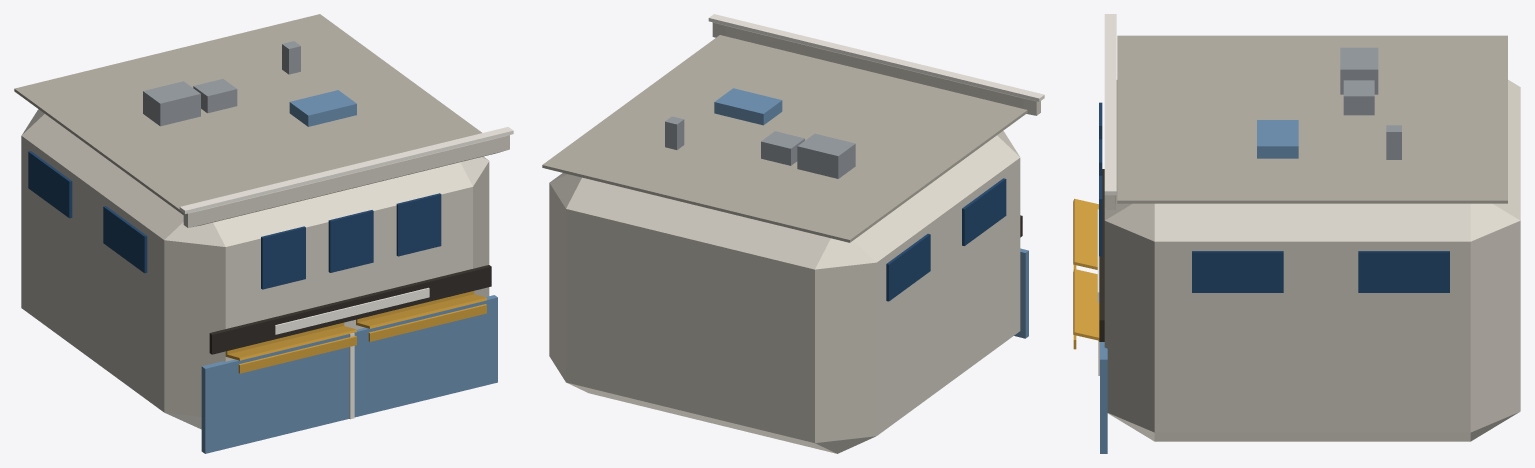
The model's file is shop_w12_f2_solid.glb.
The picture shows the model from 3 angles, left to right: view 1: azimuth 30°, elevation 25°; view 2: azimuth 150°, elevation 25°; view 3: azimuth 270°, elevation 25°; orthographic projection. The views are drawn at different scales.
Visible parts, largest first — view 1: walls, roofslab, shopglass, parapet, fascia, pcap, win.002, win.001, win, hvac, sb, sb.002 (+9 smaller); view 2: walls, roofslab, parapet, pcap, hvac, sb.002, sb, skylt, hvac2, shopglass, pipe; view 3: walls, roofslab, sb.001, sb.003, pcap, awn.001, awn, skylt, hvac, hvac2, shopglass, fascia (+1 smaller).
Boxes of the visible parts, left/top/right/bottom form: walls: left=21, top=109, right=489, bottom=429; roofslab: left=14, top=14, right=481, bottom=214; shopglass: left=201, top=295, right=497, bottom=453; parapet: left=183, top=135, right=509, bottom=227; fascia: left=209, top=265, right=491, bottom=354; pcap: left=179, top=127, right=513, bottom=213; win.002: left=396, top=193, right=441, bottom=256; win.001: left=328, top=210, right=373, bottom=272; win: left=261, top=226, right=305, bottom=289; hvac: left=143, top=81, right=200, bottom=126; sb: left=103, top=206, right=147, bottom=273; sb.002: left=28, top=151, right=72, bottom=218; walls: left=549, top=131, right=1020, bottom=453; roofslab: left=542, top=35, right=1027, bottom=242; parapet: left=712, top=22, right=1040, bottom=115; pcap: left=708, top=14, right=1044, bottom=101; hvac: left=797, top=133, right=855, bottom=178; sb.002: left=886, top=233, right=930, bottom=301; sb: left=962, top=178, right=1006, bottom=245; skylt: left=714, top=88, right=782, bottom=125; hvac2: left=761, top=131, right=804, bottom=165; shopglass: left=1014, top=248, right=1028, bottom=338; pipe: left=665, top=116, right=684, bottom=149; walls: left=1104, top=80, right=1520, bottom=441; roofslab: left=1117, top=35, right=1507, bottom=203; sb.001: left=1192, top=251, right=1283, bottom=292; sb.003: left=1358, top=251, right=1449, bottom=292; pcap: left=1104, top=14, right=1116, bottom=195; awn.001: left=1073, top=269, right=1099, bottom=340; awn: left=1073, top=198, right=1098, bottom=269; skylt: left=1257, top=120, right=1298, bottom=158; hvac: left=1340, top=47, right=1378, bottom=94; hvac2: left=1343, top=80, right=1374, bottom=115; shopglass: left=1100, top=342, right=1107, bottom=453; fascia: left=1099, top=169, right=1104, bottom=341.
Bounding box in the file's own units: 12.2 × 9.1 × 12.91.
